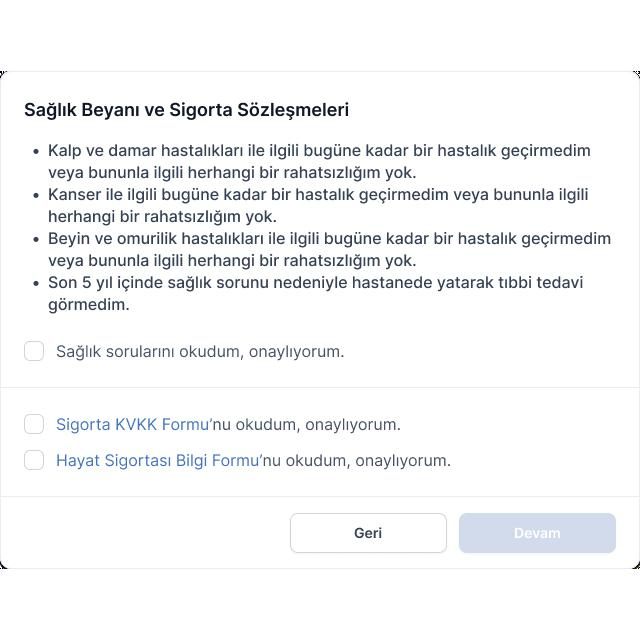QLabel: (26, 139, 594, 161), (31, 230, 617, 248), (30, 186, 594, 204), (32, 274, 586, 292), (18, 98, 360, 122), (41, 164, 418, 182), (44, 254, 420, 270), (42, 206, 282, 228), (54, 344, 346, 361), (56, 452, 260, 468), (213, 417, 401, 433), (264, 456, 452, 470), (56, 417, 210, 433), (44, 296, 134, 316), (506, 524, 570, 544), (346, 522, 388, 542)
VBtn: (457, 511, 618, 553), (290, 512, 448, 554)
VCard: (0, 71, 640, 569)
VCheckbox: (18, 448, 48, 474), (17, 413, 49, 437), (20, 340, 46, 362)
VDivider: (1, 384, 640, 391), (1, 494, 640, 498)
